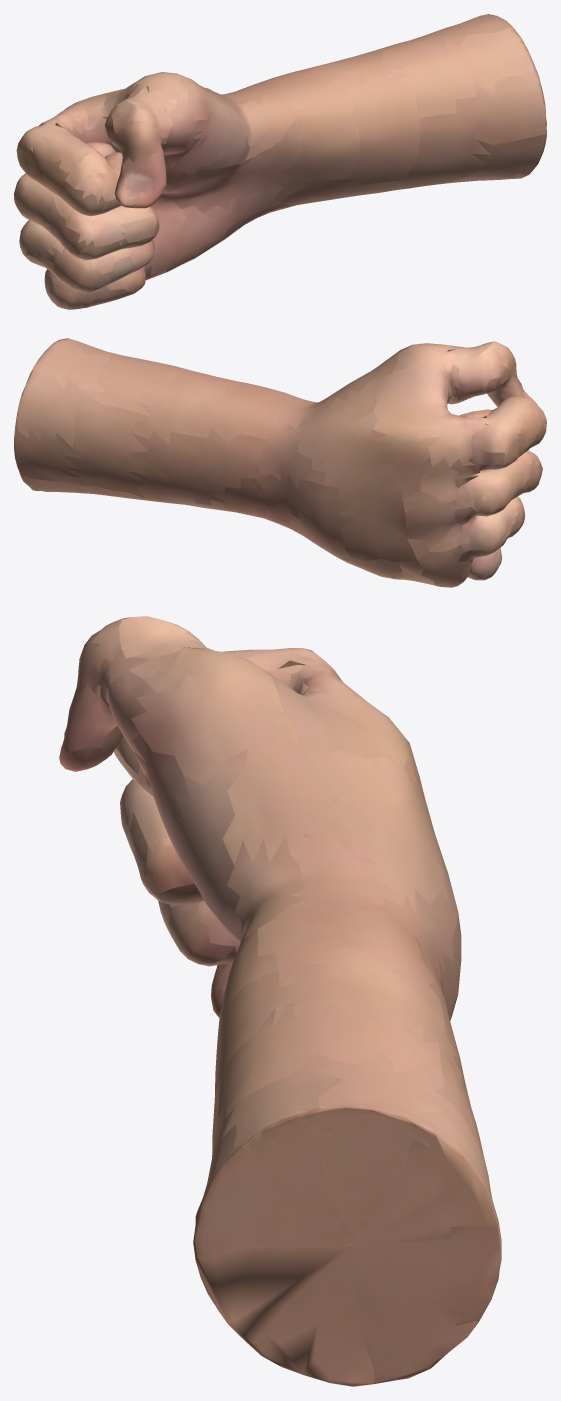
The model's file is mano.glb.
3 renders of one model, top to bottom at view 1: azimuth 30°, elevation 25°; view 2: azimuth 150°, elevation 25°; view 3: azimuth 270°, elevation 25°, orthographic. The views are drawn at different scales.
Bounding box in the file's own units: 1 × 0.4483 × 0.4278.
1 material, 1 textured.
